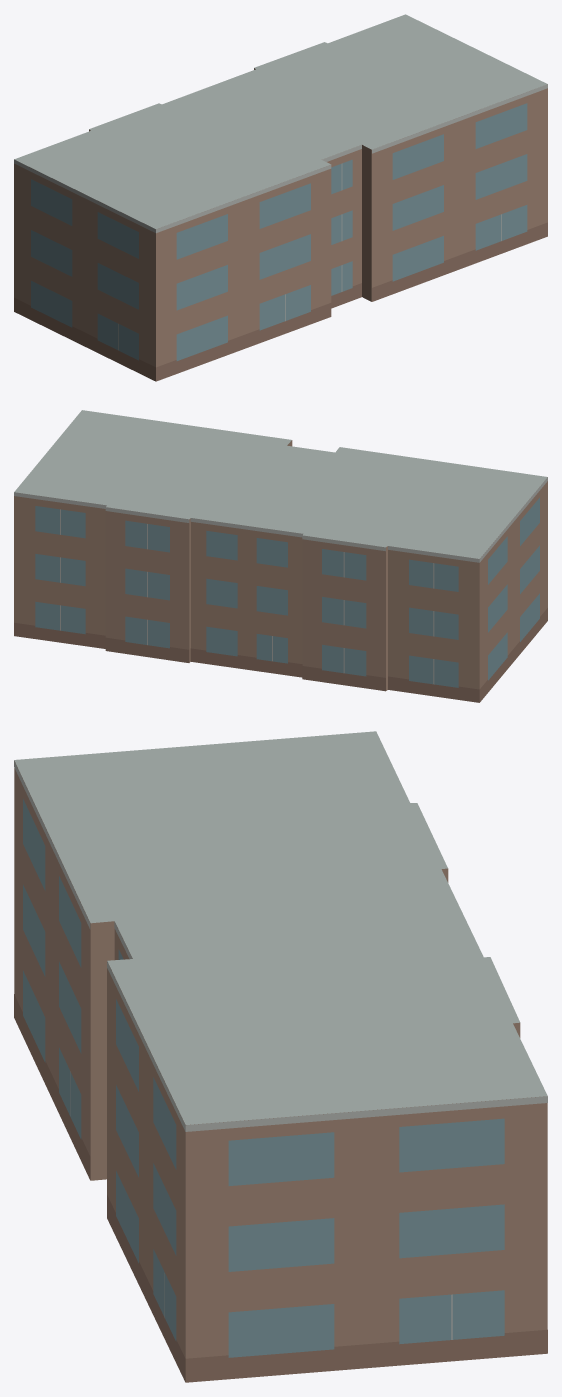
The model's file is survey-upis-32617231.glb.
3 renders of one model, top to bottom at view 1: azimuth 30°, elevation 25°; view 2: azimuth 150°, elevation 25°; view 3: azimuth 270°, elevation 25°, orthographic. The views are drawn at different scales.
Visible parts, largest first — view 1: survey-upis-32617231.tmp; view 2: survey-upis-32617231.tmp; view 3: survey-upis-32617231.tmp.
Boxes of the visible parts, box(x1,y1,x2,y2) form: survey-upis-32617231.tmp: box(14, 14, 547, 381); survey-upis-32617231.tmp: box(14, 410, 547, 702); survey-upis-32617231.tmp: box(14, 731, 547, 1382).
Bounding box in the file's own units: 30.02 × 9.15 × 17.2.
